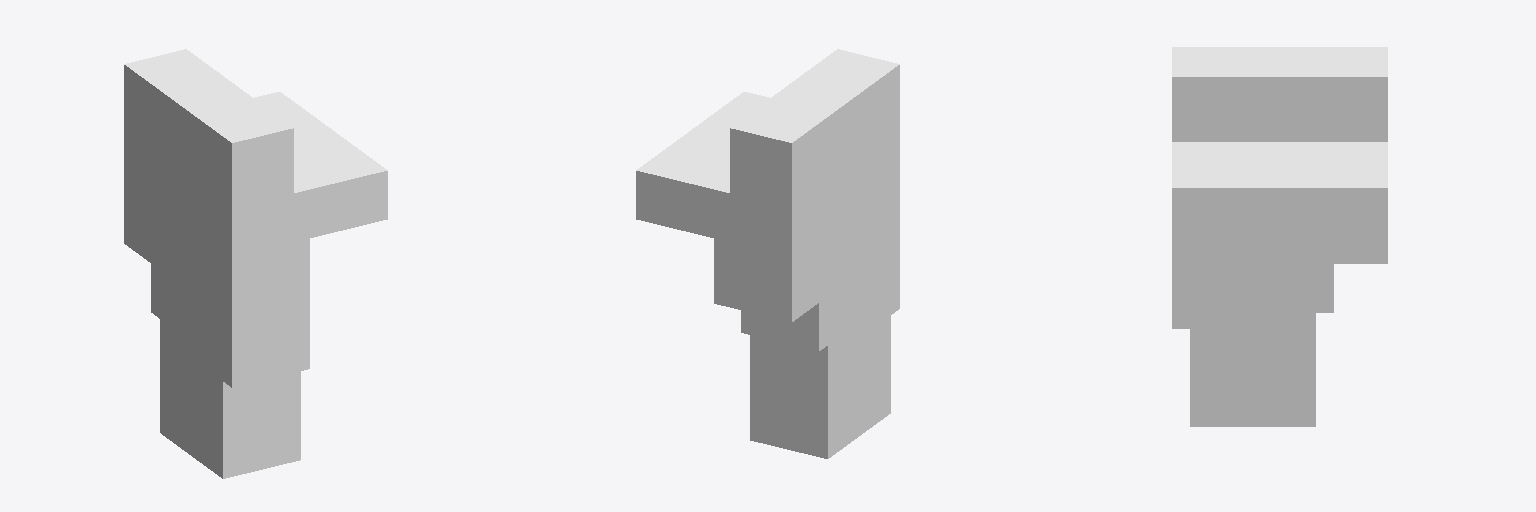
File: leg-upper-r.obj
The picture shows the model from 3 angles: view 1: azimuth 30°, elevation 25°; view 2: azimuth 150°, elevation 25°; view 3: azimuth 270°, elevation 25°; orthographic projection.
Visible parts, largest first — view 1: _12; view 2: _12; view 3: _12.
Boxes of the visible parts, x1,y1,x2,y2 form: _12: [124, 49, 387, 478]; _12: [636, 49, 899, 458]; _12: [1172, 47, 1387, 426].
Size of the model in its own units: 10 by 21 by 12.